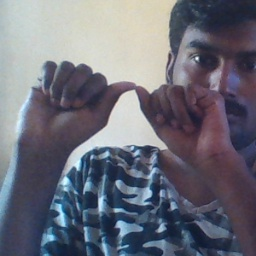A: (61, 57, 195, 154)
